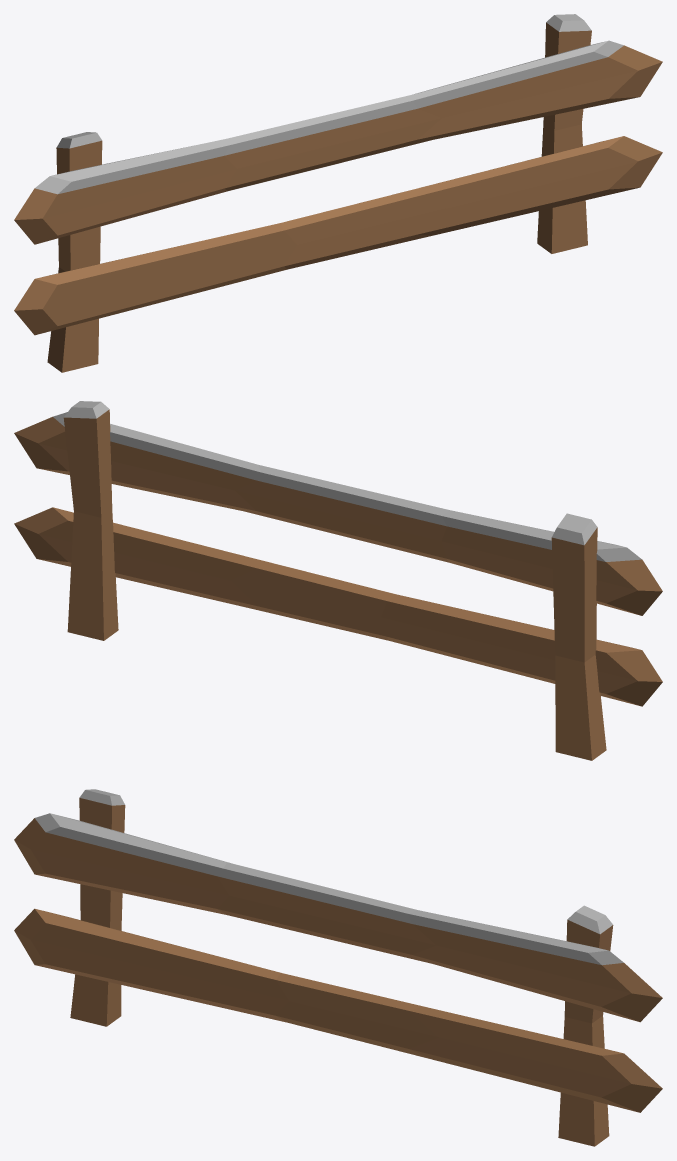
The model's file is Fence_2 Winter.fbx.
3 renders of one model, top to bottom at view 1: azimuth 30°, elevation 25°; view 2: azimuth 150°, elevation 25°; view 3: azimuth 330°, elevation 25°, orthographic.
Parts seen in each view (by area): view 1: Fence2Winter_mesh; view 2: Fence2Winter_mesh; view 3: Fence2Winter_mesh.
Boxes of the visible parts, bbox=[...] form: Fence2Winter_mesh: bbox=[14, 14, 662, 372]; Fence2Winter_mesh: bbox=[14, 401, 662, 760]; Fence2Winter_mesh: bbox=[14, 789, 662, 1146].
Size of the model in its own units: 311 by 105 by 20.56.
